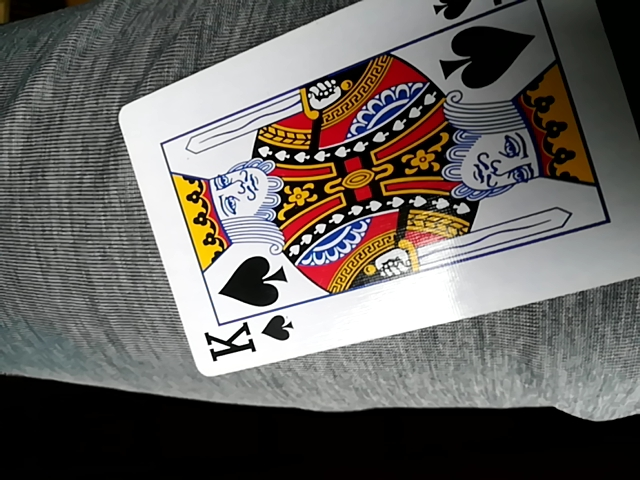ht k: (117, 4, 635, 381)
